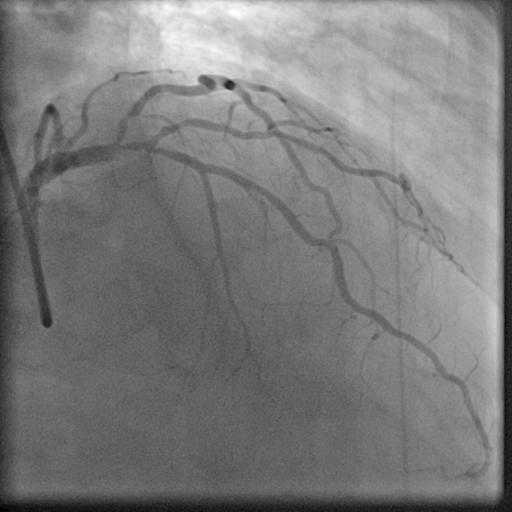Stenosis: (110, 107, 136, 127)
